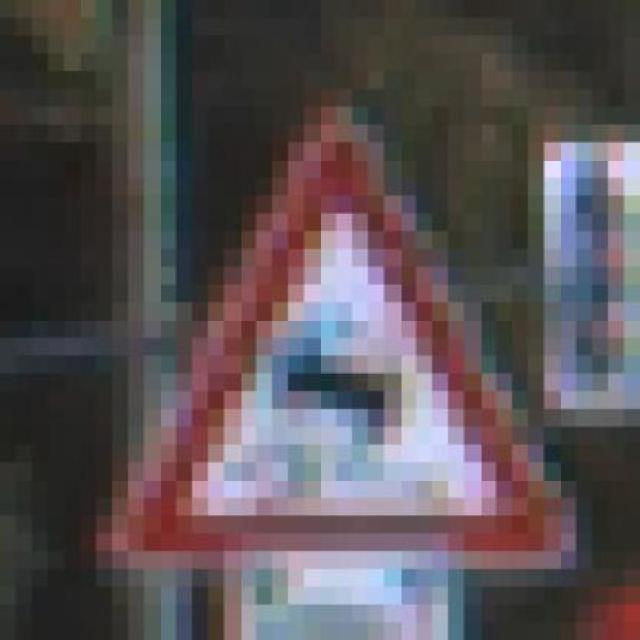Speed Limit 30 KMPh: (79, 71, 576, 569)
